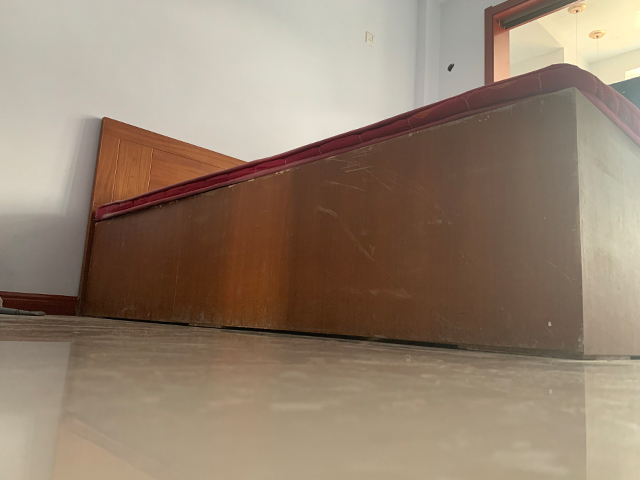bed: (74, 62, 640, 363)
